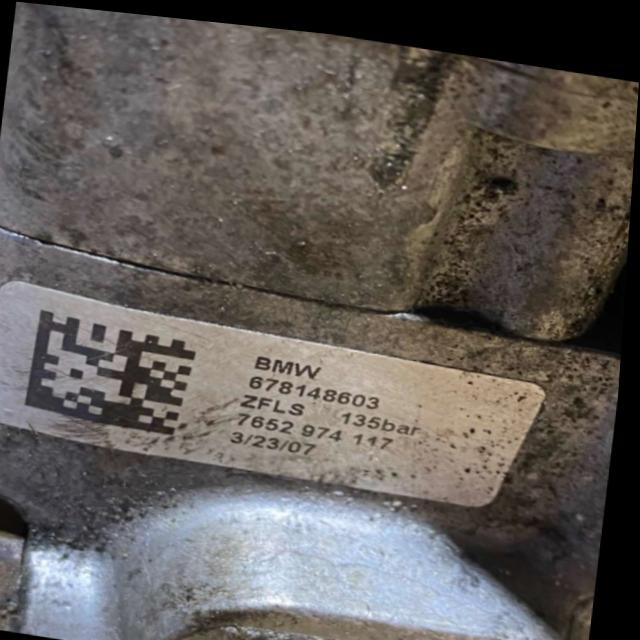datamatrix: (30, 308, 203, 434)
